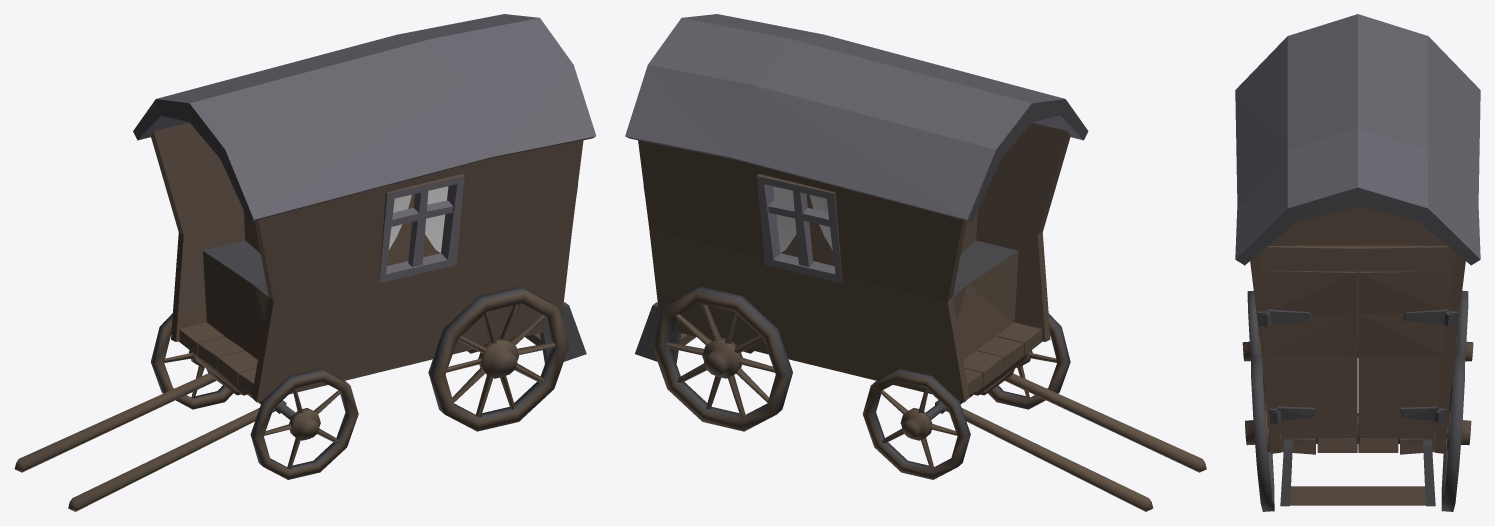
File: waggon.dae
The picture shows the model from 3 angles, left to right: view 1: azimuth 30°, elevation 25°; view 2: azimuth 150°, elevation 25°; view 3: azimuth 270°, elevation 25°; orthographic projection.
Visible parts, largest first — view 1: waggon_proxy; view 2: waggon_proxy; view 3: waggon_proxy.
Part boxes in pixels (bbox=[...]): waggon_proxy: bbox=[14, 14, 596, 511]; waggon_proxy: bbox=[625, 14, 1206, 511]; waggon_proxy: bbox=[1235, 14, 1480, 511].
Bounding box in the file's own units: 5.15 × 2.13 × 3.49.
1 material, 1 textured.
